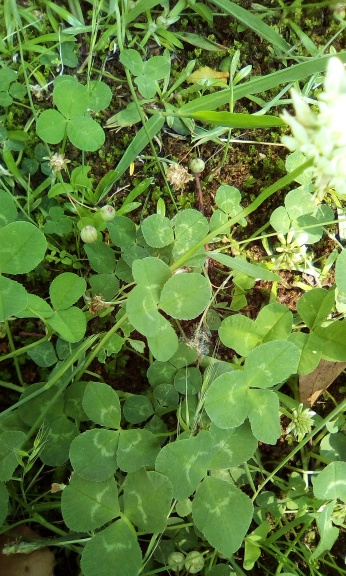4leaf: (126, 256, 212, 362)
